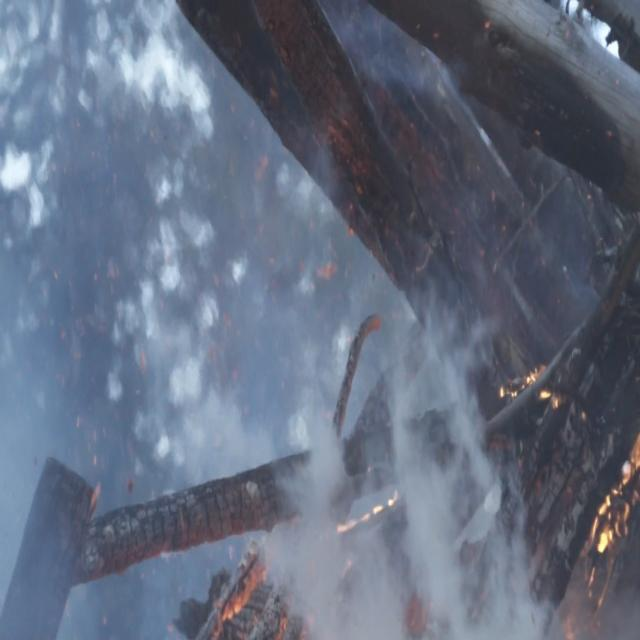Fire: (485, 314, 640, 587)
